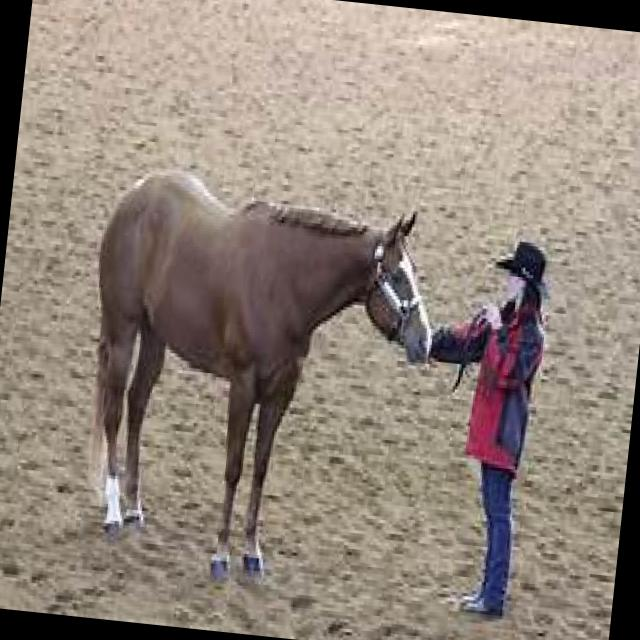horse: (65, 159, 447, 599)
